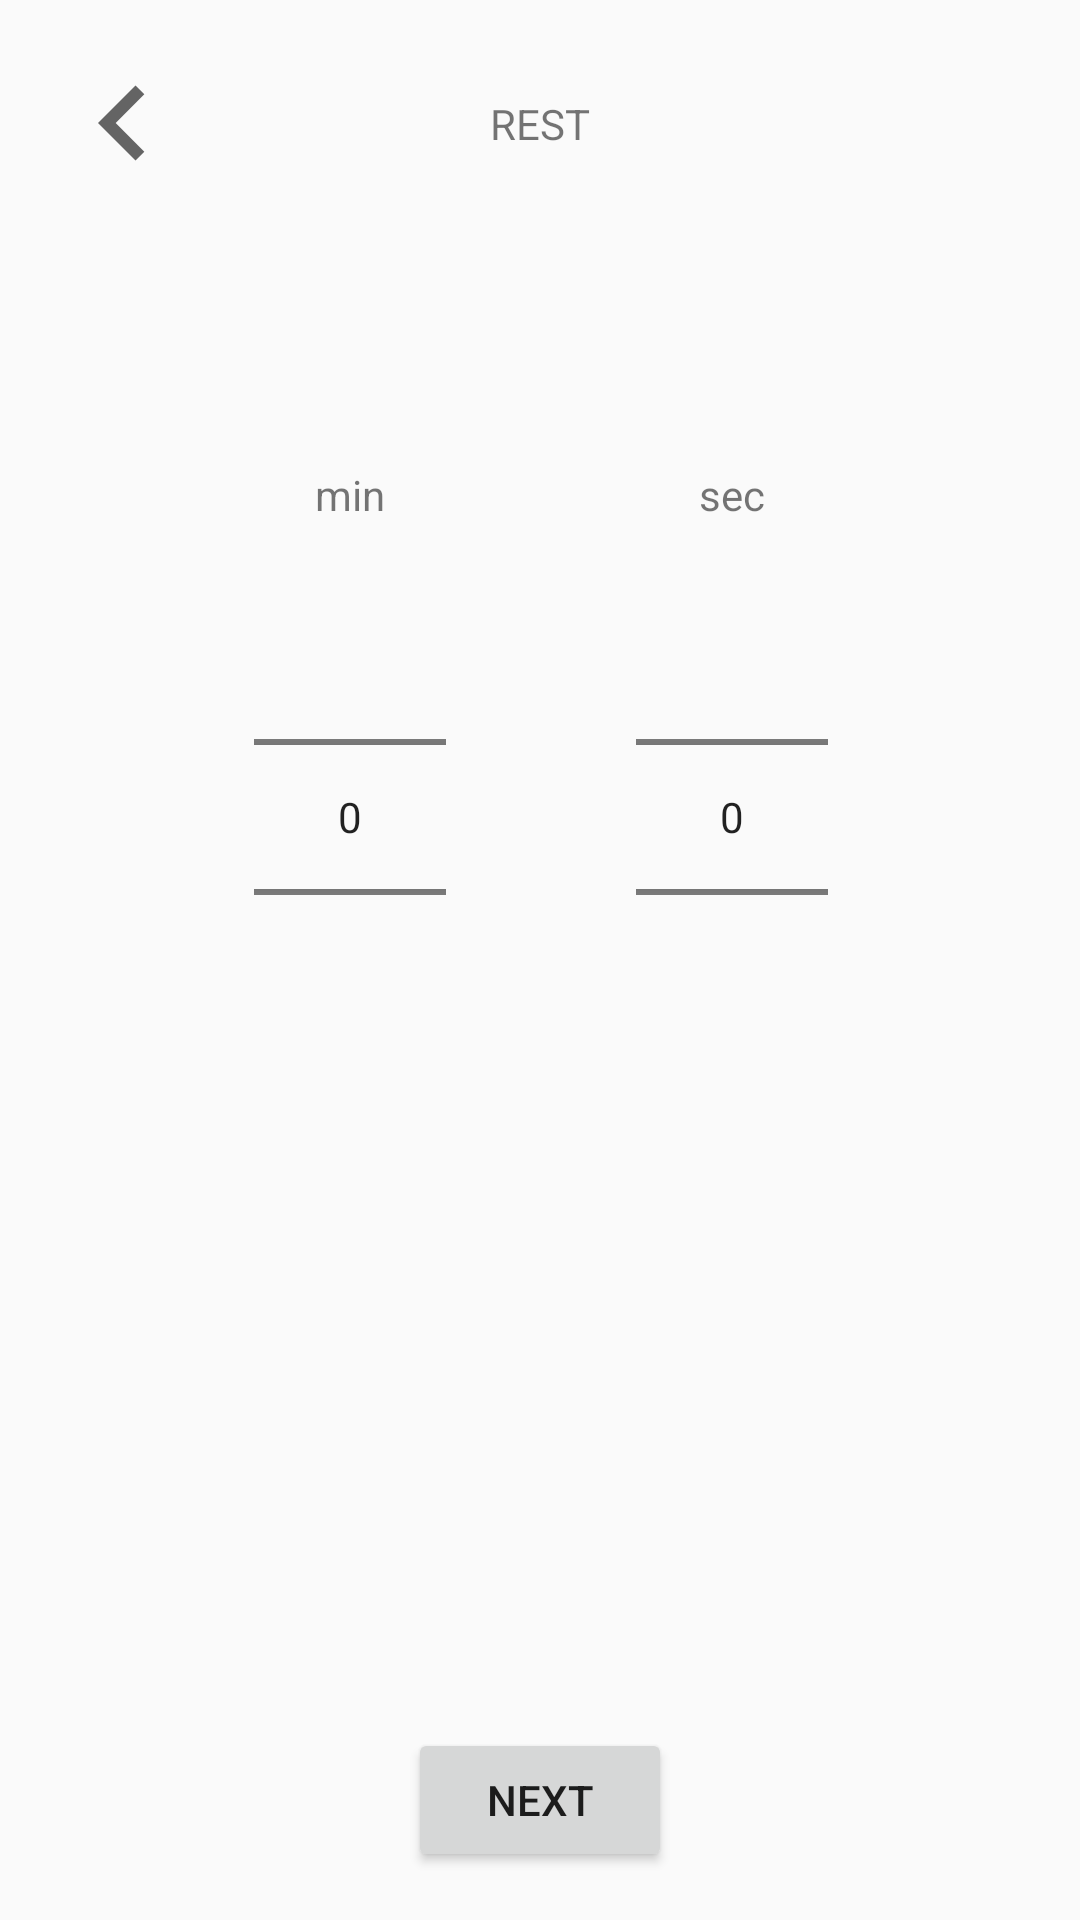

Point at icon controls on the screen. Image size 1080×1920, points as [x,y].
chevron left: [121,123]
